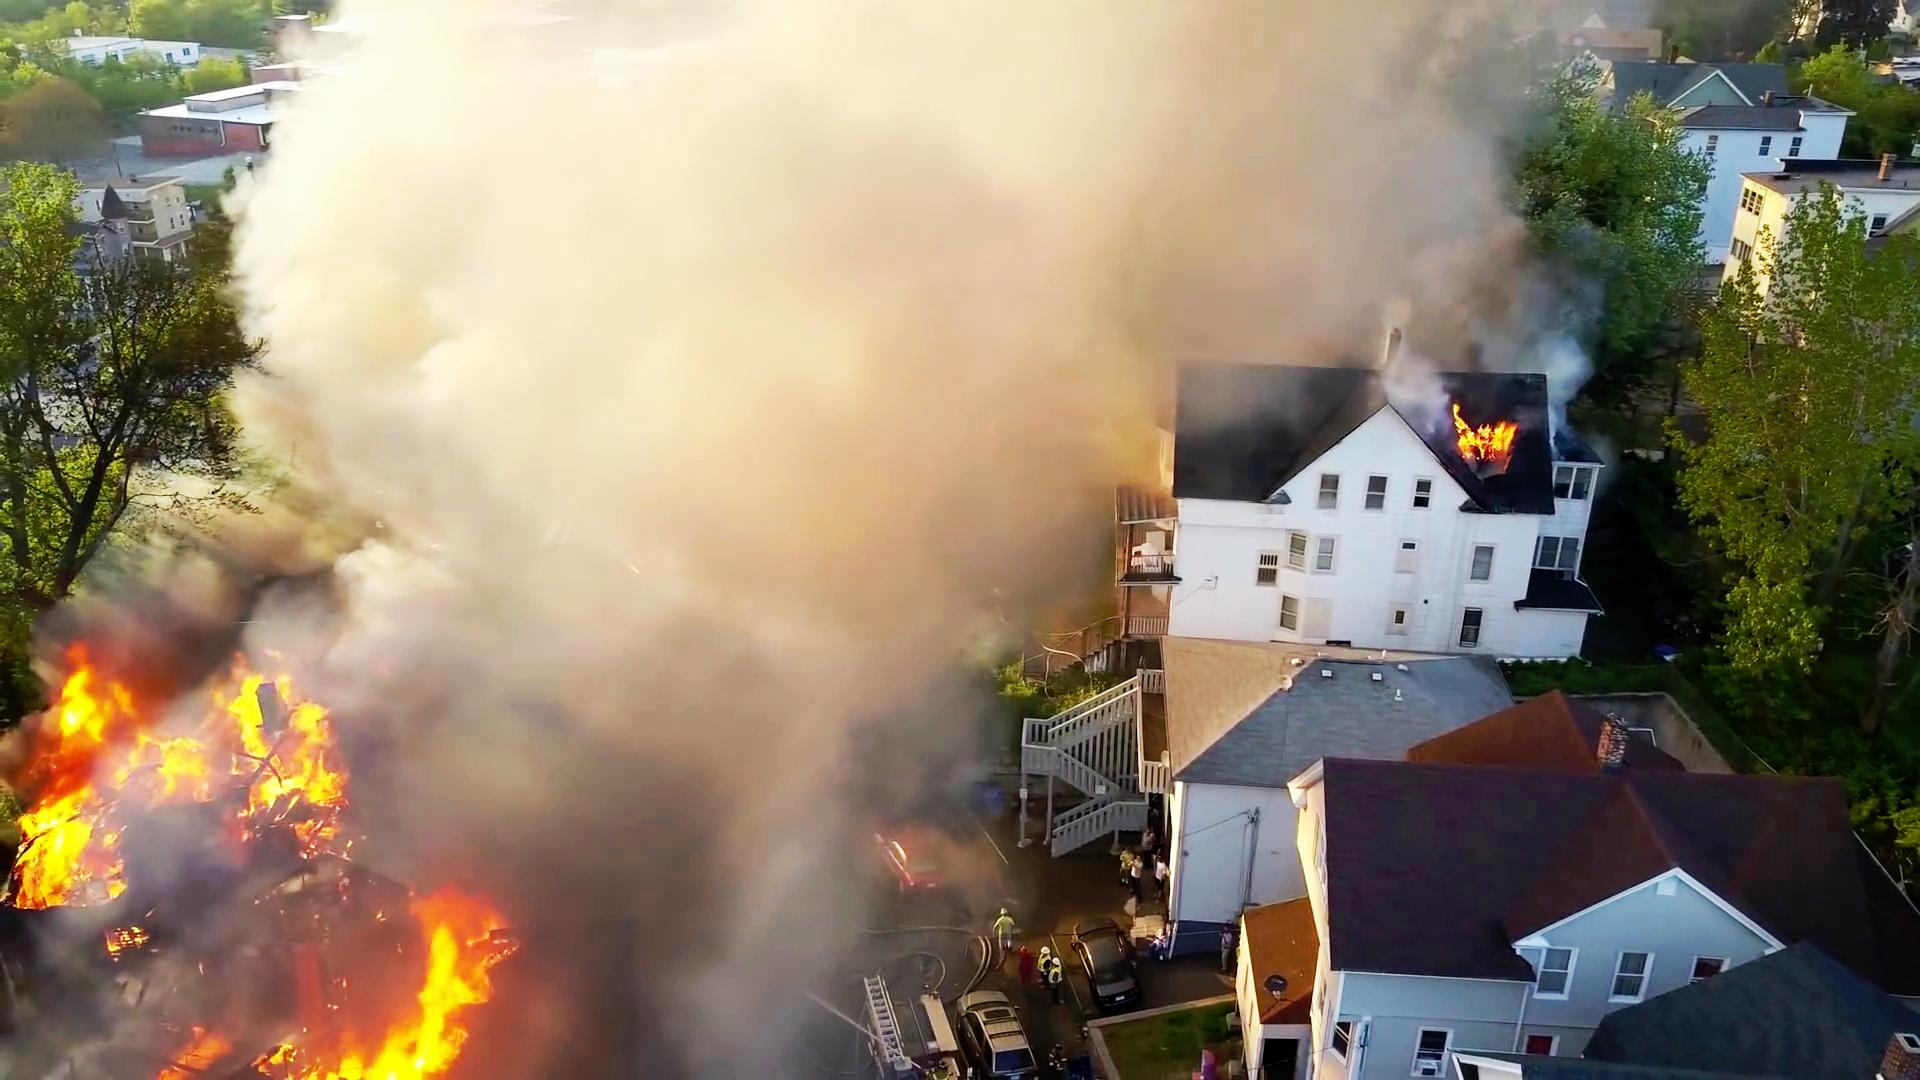fire: (12, 632, 355, 808), (284, 893, 496, 1080), (0, 758, 123, 923)
smoke: (531, 273, 705, 1060)
